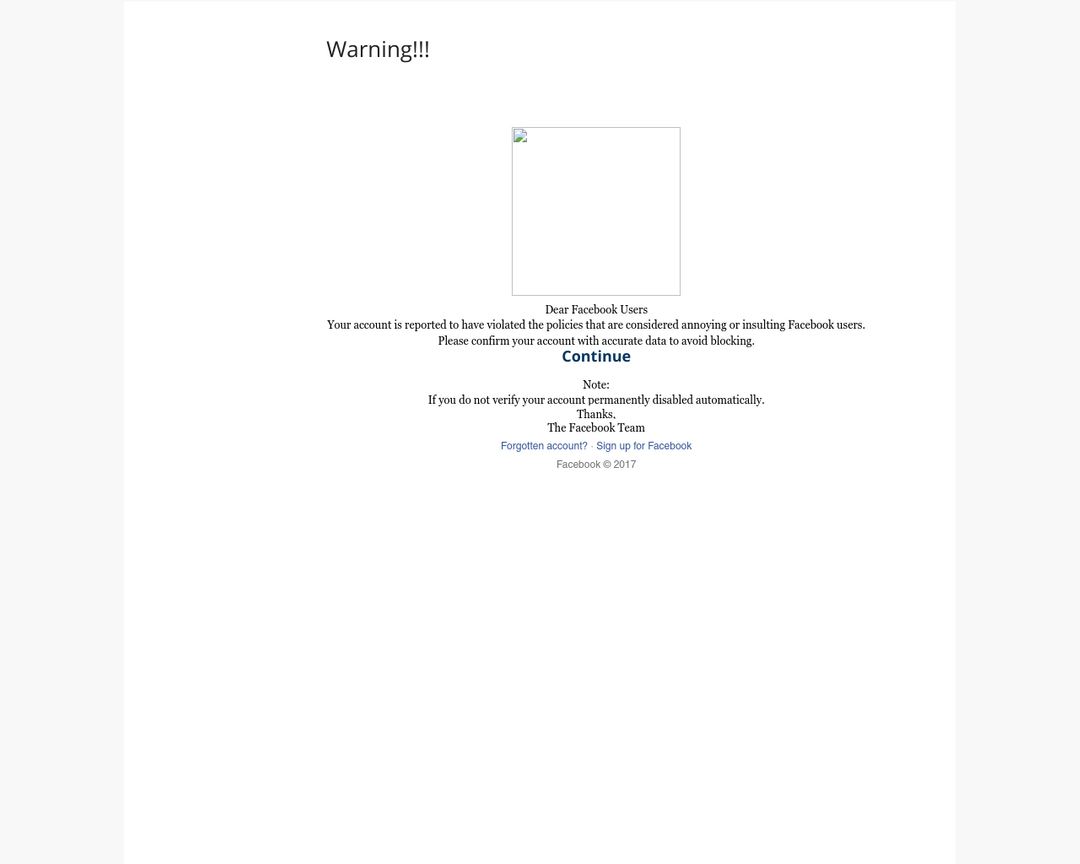Facebook: (647, 437, 694, 455), (568, 301, 621, 316)
